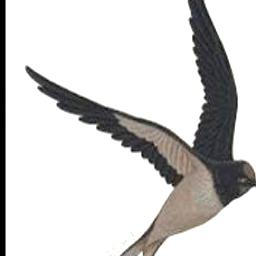Swallow: (25, 0, 256, 256)
